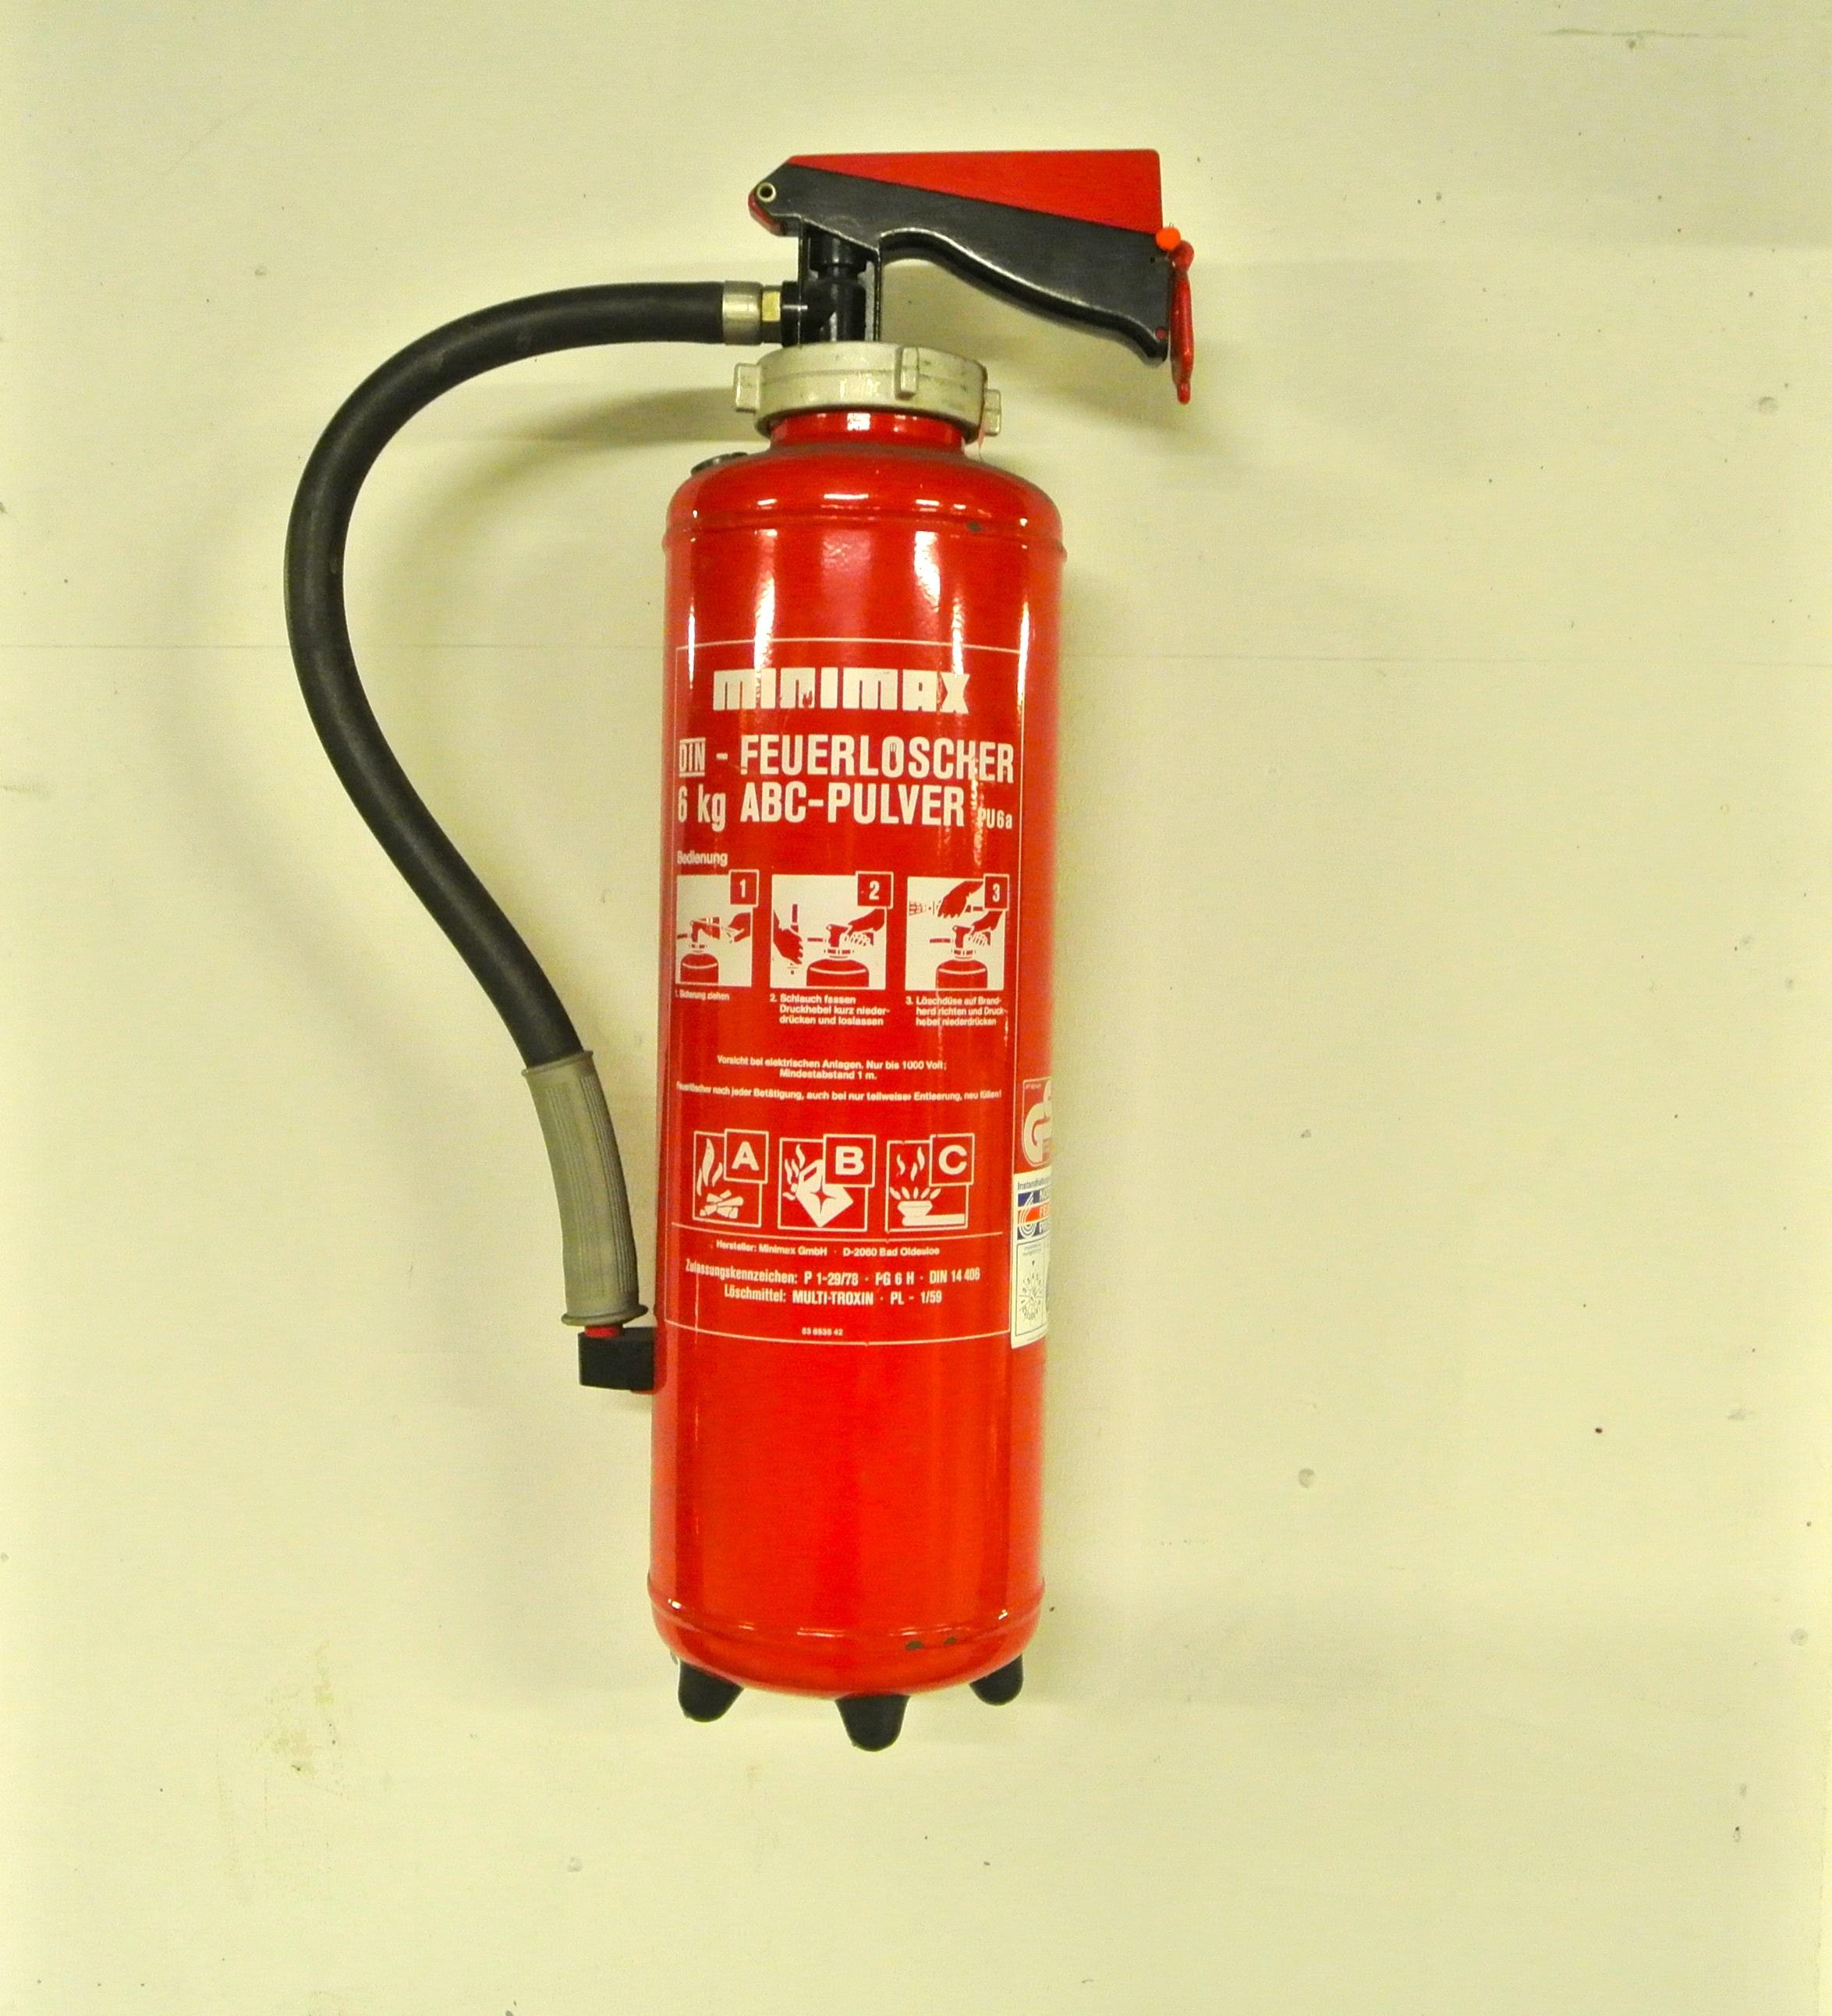Fire Extinguisher: (218, 39, 1240, 1825)
